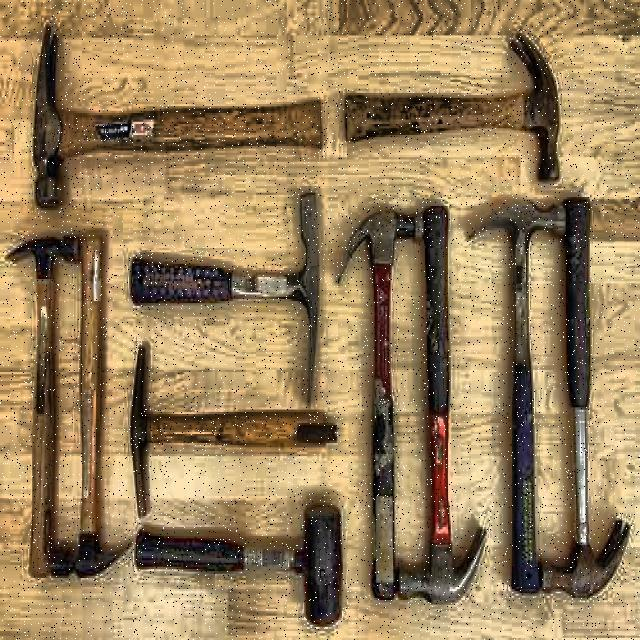hammer: (32, 26, 326, 214), (474, 200, 565, 601), (543, 197, 632, 601), (337, 207, 425, 603), (399, 207, 485, 601), (345, 31, 561, 185), (136, 504, 342, 626), (51, 239, 123, 582), (5, 233, 76, 576)
